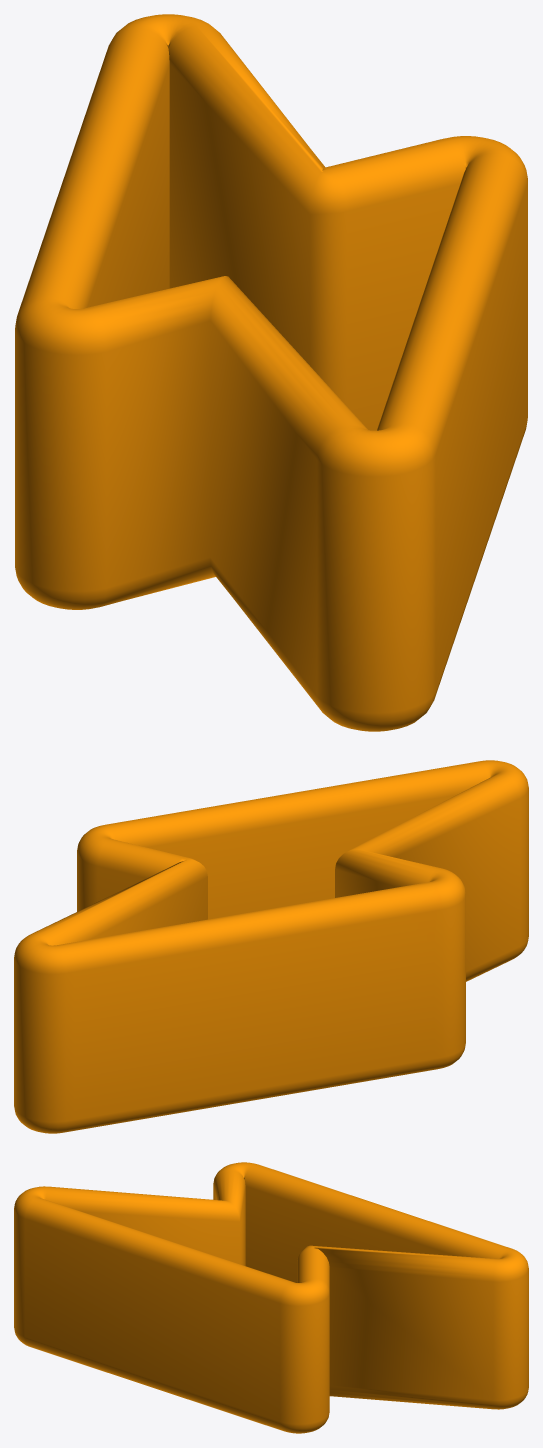
The model's file is Particle-3.dae.
3 views of the same model, one above another, from view 1: azimuth 30°, elevation 25°; view 2: azimuth 150°, elevation 25°; view 3: azimuth 270°, elevation 25° (orthographic). The views are drawn at different scales.
Visible parts, largest first — view 1: Particle; view 2: Particle; view 3: Particle.
Part boxes in pixels (box(x1,y1,x2,y2)): Particle: box(15, 14, 527, 731); Particle: box(14, 760, 528, 1133); Particle: box(14, 1162, 528, 1433).
Bounding box in the file's own units: 0.0976 × 0.05 × 0.158.
Materials: 1 (1 with a texture image).
